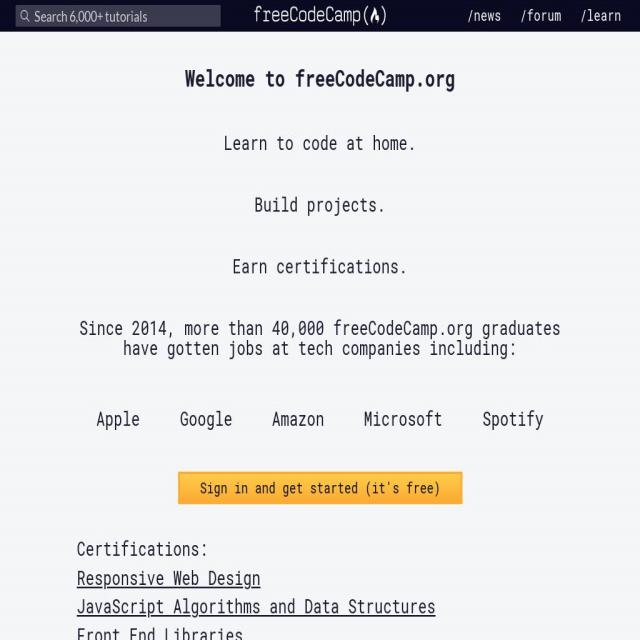login-option: (171, 470, 470, 510)
navigation-links: (464, 5, 630, 30)
search: (11, 4, 231, 34)
